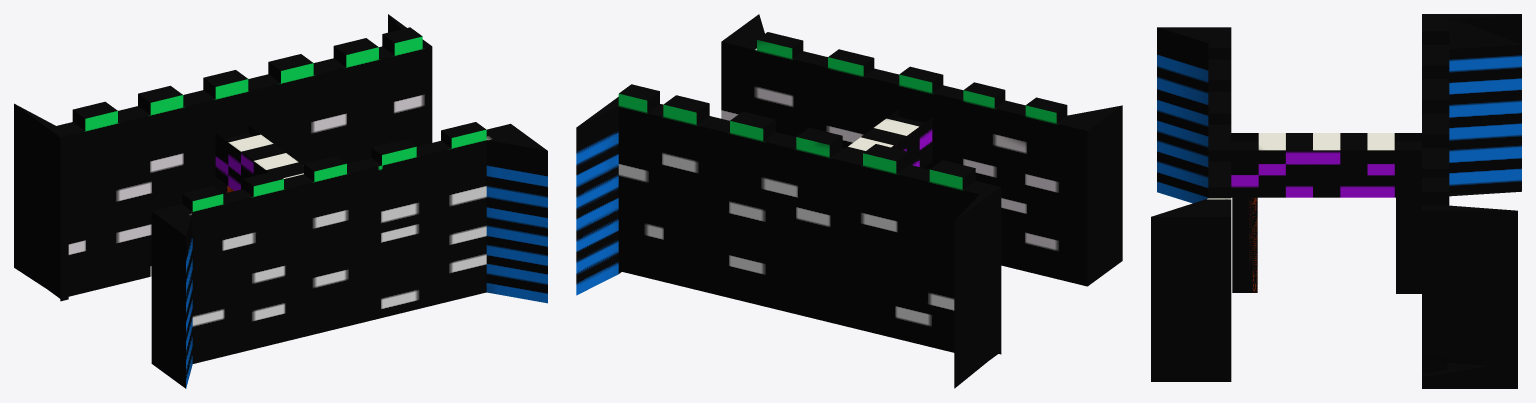
The model's file is futuristic building 4 do 6.fbx.
The picture shows the model from 3 angles, left to right: view 1: azimuth 30°, elevation 25°; view 2: azimuth 150°, elevation 25°; view 3: azimuth 270°, elevation 25°; orthographic projection. The views are drawn at different scales.
Visible parts, largest first — view 1: Cube; view 2: Cube; view 3: Cube.
Boxes of the visible parts, box(x1,y1,x2,y2) form: Cube: box(14, 14, 547, 388); Cube: box(576, 14, 1122, 388); Cube: box(1151, 14, 1521, 388).
Bounding box in the file's own units: 7721 × 3661 × 6156.
